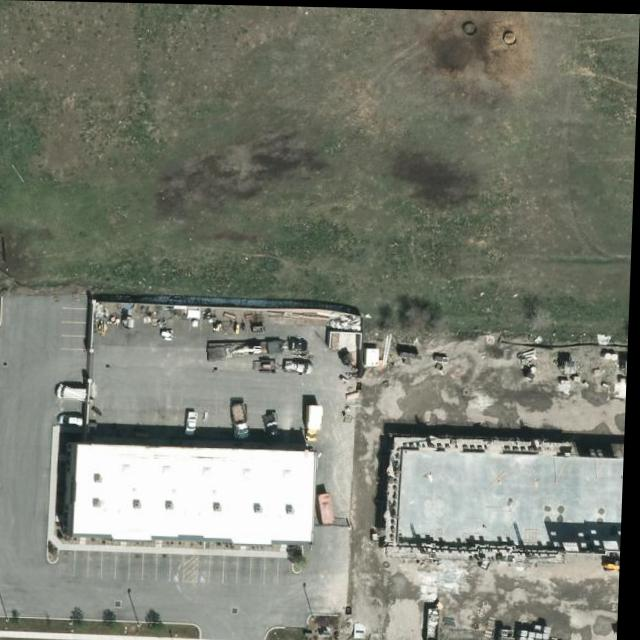vehicle: (209, 337, 313, 360), (233, 402, 253, 440), (265, 411, 288, 444), (310, 404, 327, 438), (59, 386, 91, 401), (187, 410, 202, 436), (287, 360, 316, 373), (60, 415, 88, 428)
